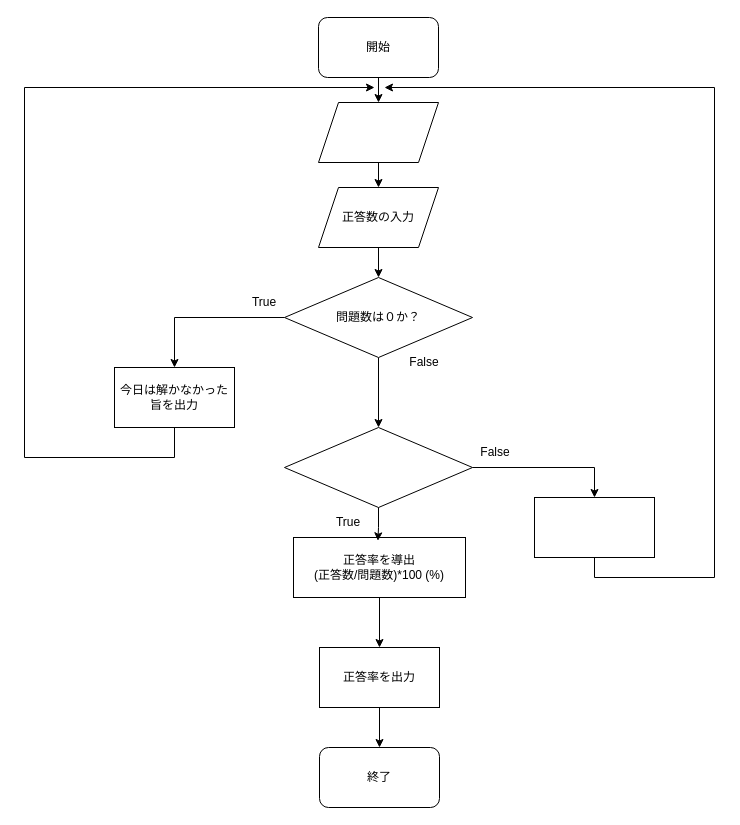
Image size: 740x825. Some labels were removed from this diagram. The shapes that lost their labels are listed below. From the top down, each one's box as (x1, y1, x2, y2) in pixels, then its label:
(318, 102, 438, 162): 問題数の入力
(284, 426, 472, 508): 問題数は正答数より多いか？
(534, 496, 654, 558): 不正な入力である旨を出力
